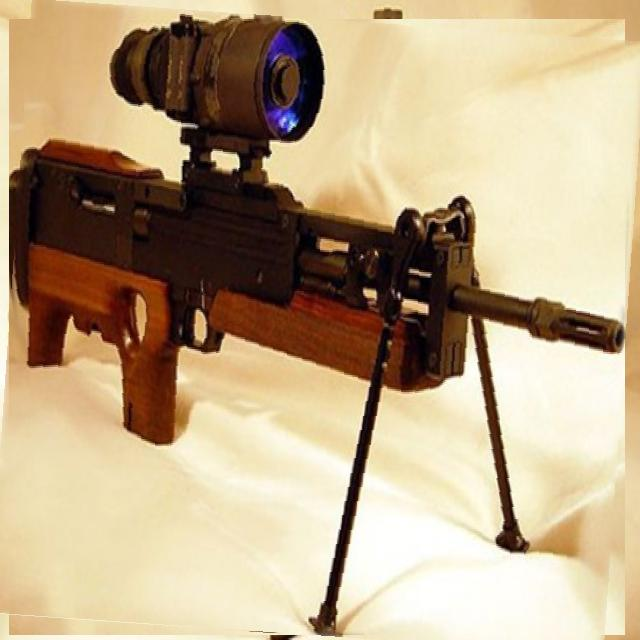gun: (0, 9, 636, 640)
